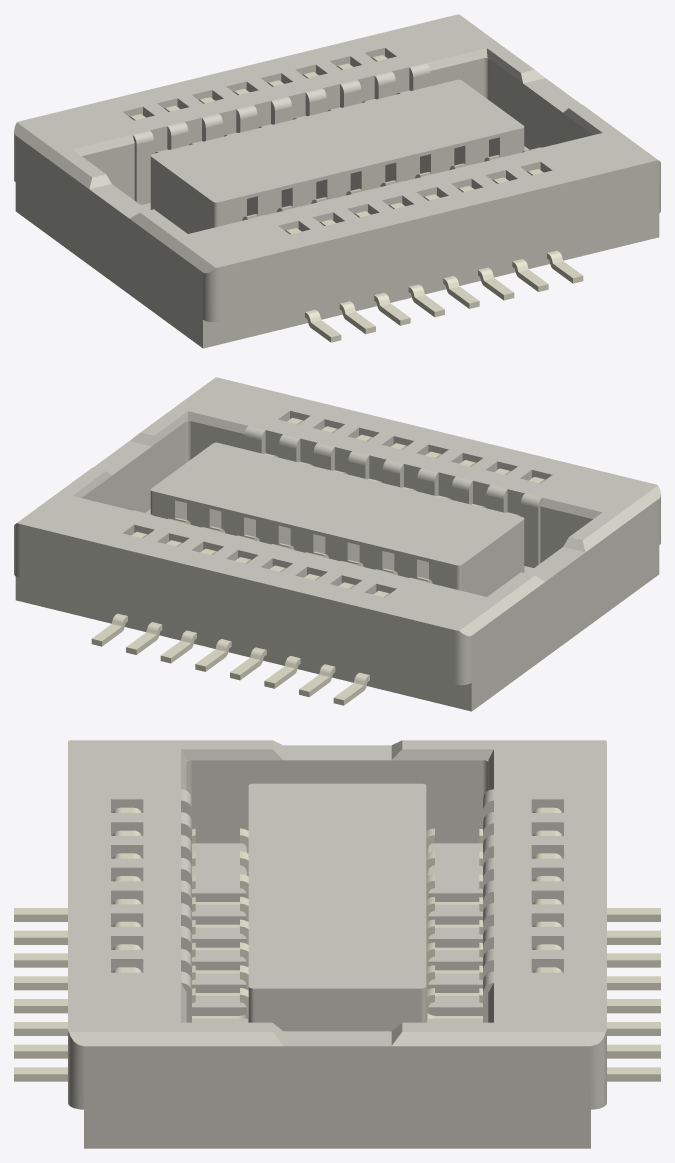
The model's file is kc-molex_slimstack_54722-0164_2x08_p0.50mm_vertical.glb.
3 views of the same model, one above another, from view 1: azimuth 30°, elevation 25°; view 2: azimuth 150°, elevation 25°; view 3: azimuth 270°, elevation 25° (orthographic). The views are drawn at different scales.
Parts seen in each view (by area): view 1: 0.6666666666666666_0.6666666666666666_0.5833333333333334_0.8, 0.75_0.75_0.5833333333333334_0; view 2: 0.6666666666666666_0.6666666666666666_0.5833333333333334_0.8, 0.75_0.75_0.5833333333333334_0; view 3: 0.6666666666666666_0.6666666666666666_0.5833333333333334_0.8, 0.75_0.75_0.5833333333333334_0.
Part boxes in pixels (x1,y1,x2,y2): 0.6666666666666666_0.6666666666666666_0.5833333333333334_0.8: [14, 14, 660, 348]; 0.75_0.75_0.5833333333333334_0: [129, 55, 583, 342]; 0.6666666666666666_0.6666666666666666_0.5833333333333334_0.8: [14, 377, 660, 711]; 0.75_0.75_0.5833333333333334_0: [91, 418, 545, 705]; 0.6666666666666666_0.6666666666666666_0.5833333333333334_0.8: [68, 740, 606, 1148]; 0.75_0.75_0.5833333333333334_0: [14, 807, 660, 1081].
Size of the model in its own units: 0.66 by 0.115 by 0.6.
